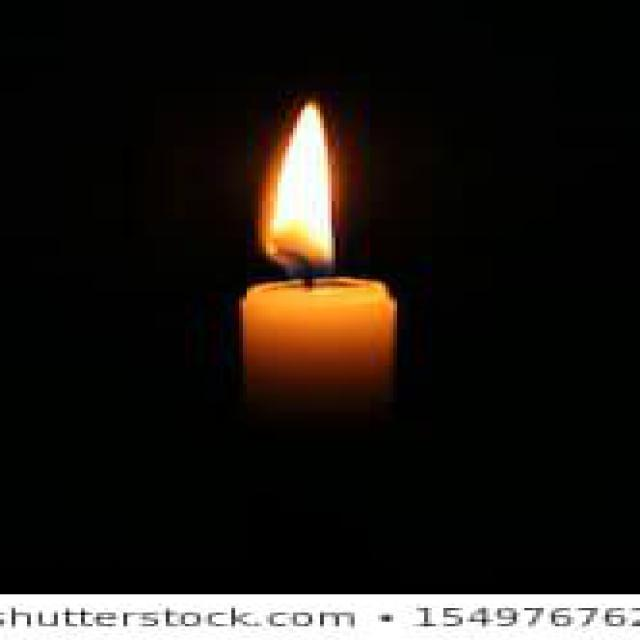Fire: (262, 102, 336, 276)
